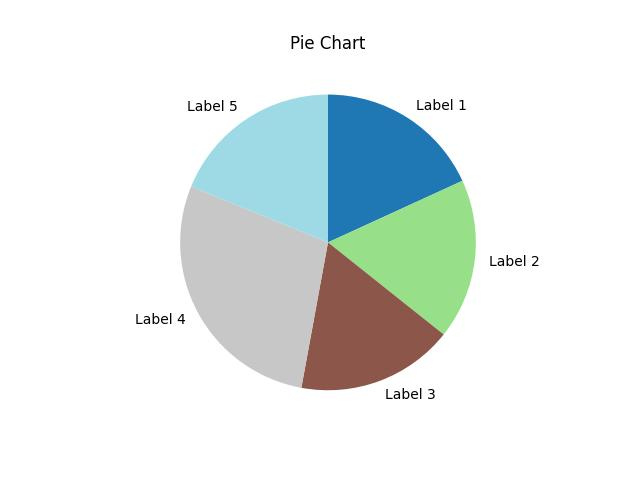sector: (179, 185, 329, 389), (327, 181, 477, 335), (300, 241, 445, 392), (189, 93, 329, 244), (328, 93, 461, 243)
